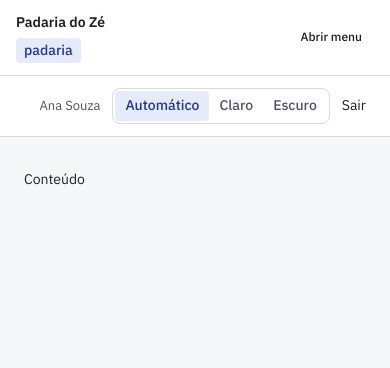
Scenario: AppShell › fecha o menu ao navegar
Click the button "Abrir menu".
click(331, 38)  # box [289,22,374,54]
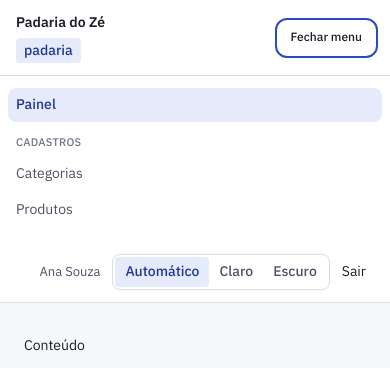
Click the link "Categorias".
click(49, 173)  # box [16,164,83,182]
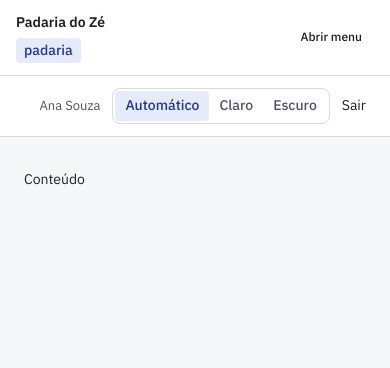
Now the button "Abrir menu" is collapsed, box [289,22,374,54]
